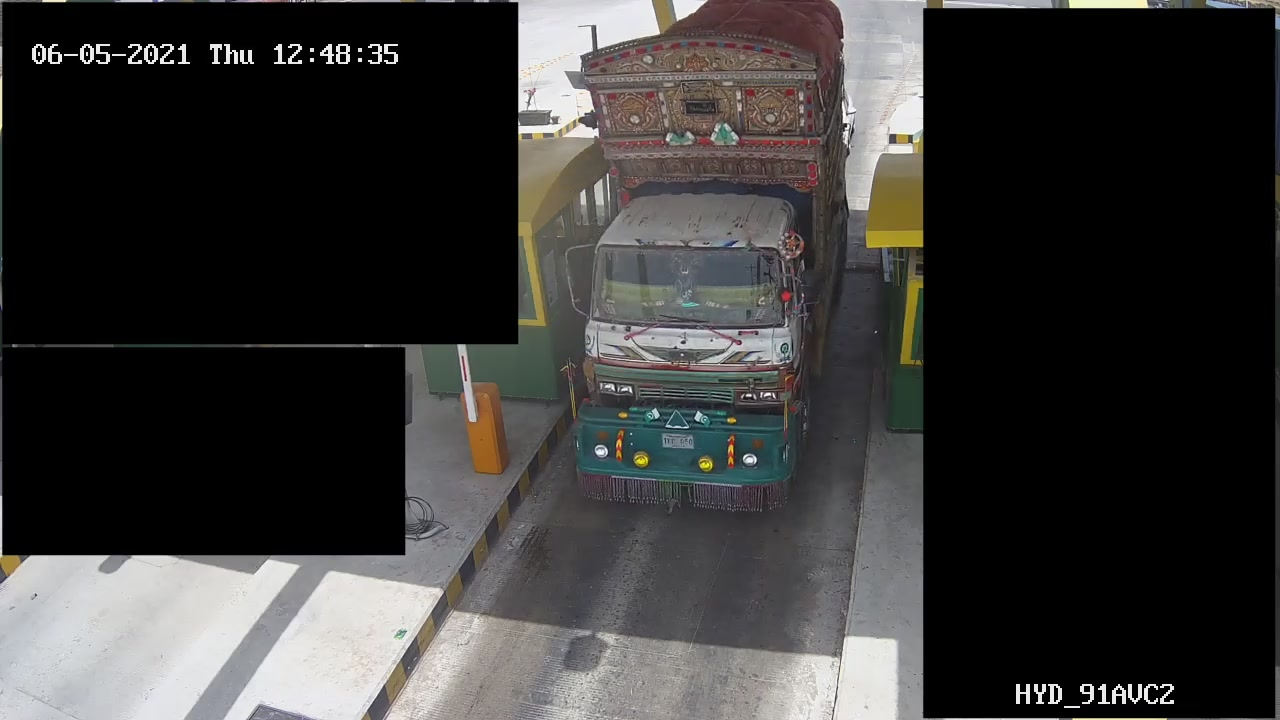F5: (572, 5, 850, 524)
